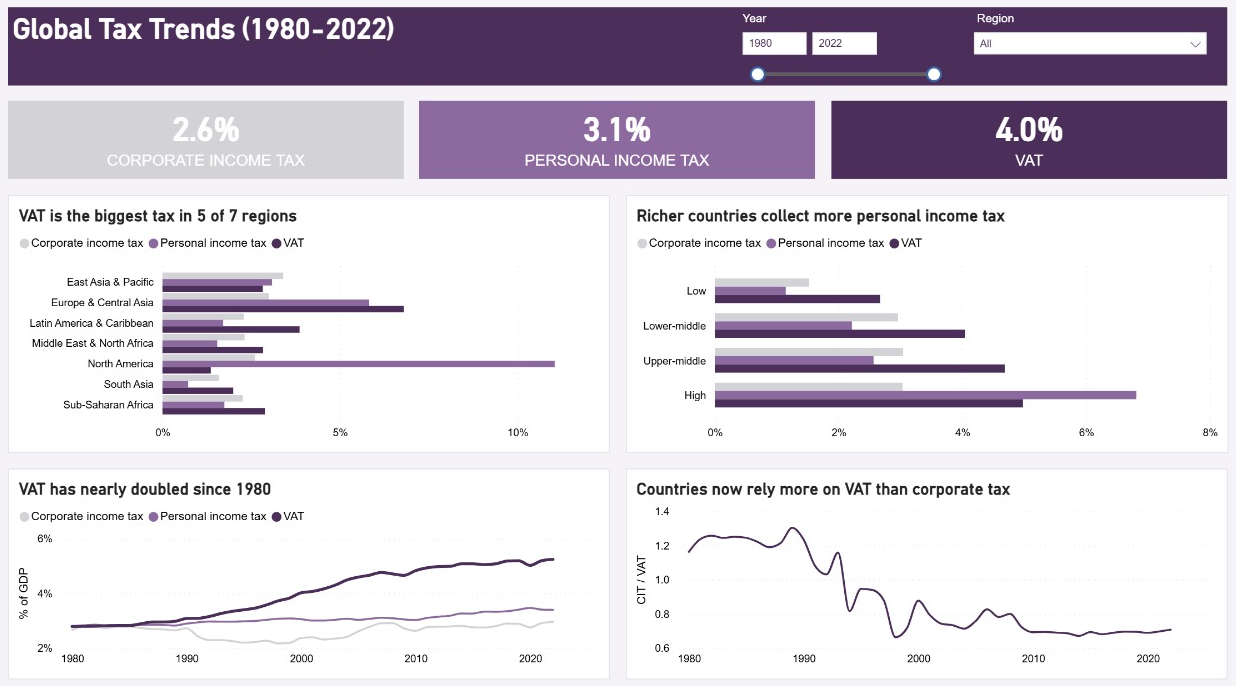

The page's visual inventory and layout, read from the dashboard file:
{"tool":"powerbi","page":{"name":"Global Tax Overview","canvas":[1280,720],"ordinal":0},"visuals":[{"type":"textbox","box":[16,16,1248,80],"z":0},{"type":"card","fields":{"Values":["Avg(Sheet1.CIT_Total)"]},"box":[16,112,405,80],"z":1000},{"type":"card","fields":{"Values":["Avg(Sheet1.PIT_Total)"]},"box":[437,112,405,80],"z":2000},{"type":"card","fields":{"Values":["Avg(Sheet1.VAT_Total)"]},"box":[859,112,405,80],"z":3000},{"type":"lineChart","title":"VAT has nearly doubled since 1980","fields":{"Category":["Sheet1.ID_Year"],"Y":["Avg(Sheet1.CIT_Total)","Avg(Sheet1.PIT_Total)","Avg(Sheet1.VAT_Total)"]},"box":[16,488,616,216],"z":4000},{"type":"lineChart","title":"Countries now rely more on VAT than corporate tax","fields":{"Category":["Sheet1 (2).ID_Year"],"Y":["Avg(Sheet1 (2).TAX_Mix_Fingerprint)"]},"box":[648,488,616,216],"z":5000},{"type":"clusteredBarChart","title":"VAT is the biggest tax in 5 of 7 regions","fields":{"Category":["Sheet1.Region"],"Y":["Avg(Sheet1.CIT_Total)","Avg(Sheet1.PIT_Total)","Avg(Sheet1.VAT_Total)"]},"box":[16,208,616,264],"z":6000},{"type":"clusteredBarChart","title":"Richer countries collect more personal income tax","fields":{"Category":["Sheet1.Income Group"],"Y":["Avg(Sheet1.CIT_Total)","Avg(Sheet1.PIT_Total)","Avg(Sheet1.VAT_Total)"]},"box":[648,208,616.9,264],"z":9000},{"type":"slicer","fields":{"Values":["Sheet1.ID_Year"]},"box":[760,20,220,76],"z":9500},{"type":"slicer","fields":{"Values":["Sheet1.Region"]},"box":[1000,20,248,76],"z":10000}]}

Visuals, with their boxes in screenshot pixels (x1, y1, x2, y2), scaled from the page's 1280x720 canvas onto the 1236x686 screenshot:
textbox: Rect(15, 15, 1221, 91)
card - Avg(Sheet1.CIT_Total): Rect(15, 107, 407, 183)
card - Avg(Sheet1.PIT_Total): Rect(422, 107, 813, 183)
card - Avg(Sheet1.VAT_Total): Rect(829, 107, 1221, 183)
"VAT has nearly doubled since 1980" lineChart: Rect(15, 465, 610, 671)
"Countries now rely more on VAT than corporate tax" lineChart: Rect(626, 465, 1221, 671)
"VAT is the biggest tax in 5 of 7 regions" clusteredBarChart: Rect(15, 198, 610, 450)
"Richer countries collect more personal income tax" clusteredBarChart: Rect(626, 198, 1221, 450)
slicer - Sheet1.ID_Year: Rect(734, 19, 946, 91)
slicer - Sheet1.Region: Rect(966, 19, 1205, 91)
